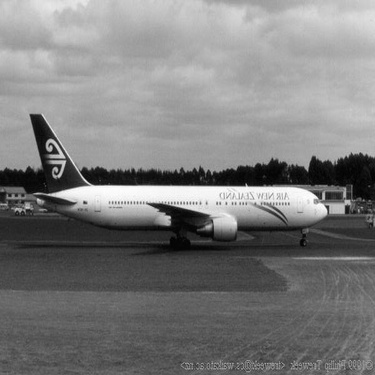airplane: (12, 95, 344, 268)
